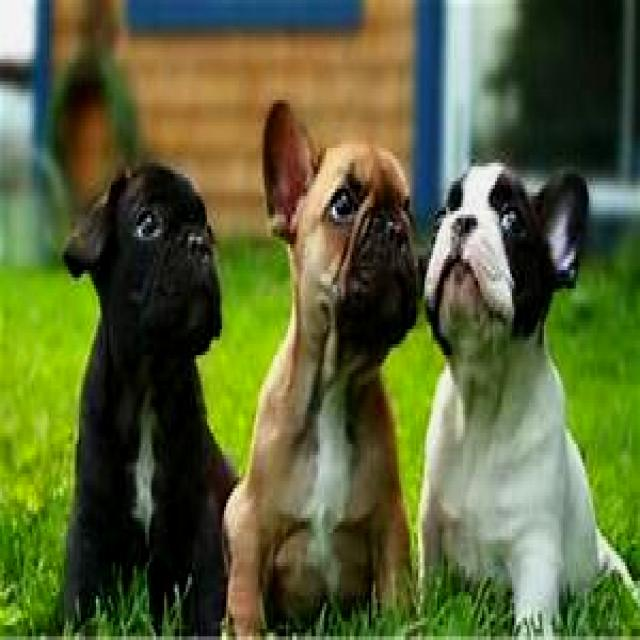KOPEK: (419, 148, 640, 638), (229, 83, 421, 640), (45, 154, 228, 637)
